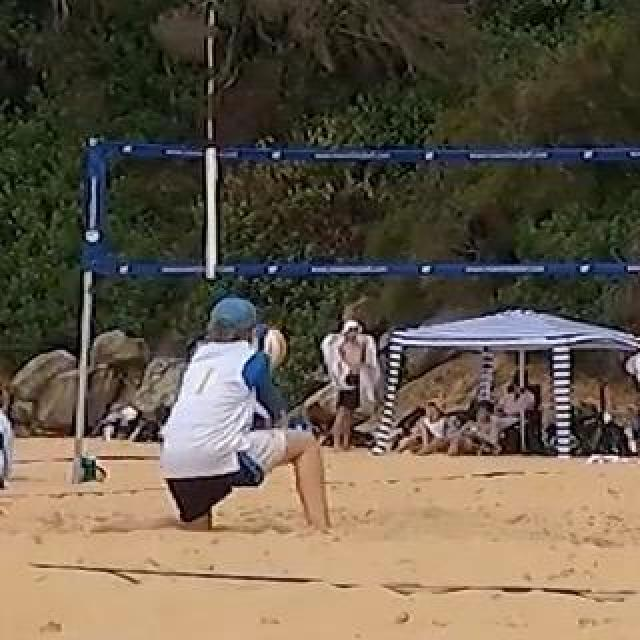volleyball: (243, 322, 287, 368)
